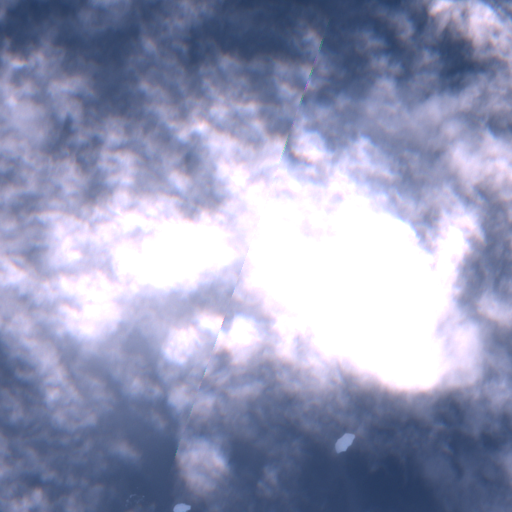Iceberg: (335, 433, 355, 452), (173, 503, 190, 511)
